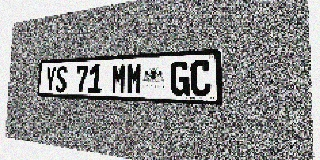1: (88, 64, 102, 94)
7: (75, 65, 89, 93)
C: (190, 60, 211, 97)
G: (170, 61, 190, 96)
M: (126, 63, 143, 95), (111, 63, 127, 94)
S: (55, 66, 67, 93)
Y: (45, 66, 56, 92)
